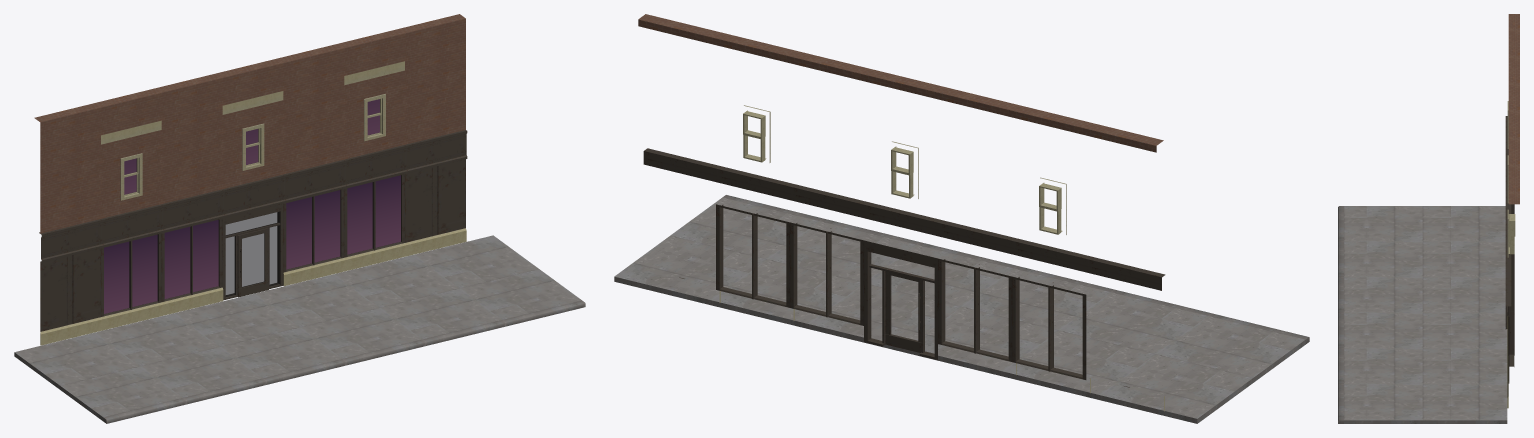
File: storefront.glb
3 renders of one model, left to right at view 1: azimuth 30°, elevation 25°; view 2: azimuth 150°, elevation 25°; view 3: azimuth 270°, elevation 25°, orthographic. The views are drawn at different scales.
Visible parts, largest first — view 1: facade, pavement, door; view 2: pavement, facade, door; view 3: pavement, facade.
Part boxes in pixels (box(x1,y1,x2,y2)): facade: box(34, 14, 467, 345); pavement: box(14, 235, 585, 423); door: box(237, 228, 268, 297); pavement: box(614, 195, 1309, 423); facade: box(638, 14, 1165, 411); door: box(885, 271, 921, 352); pavement: box(1338, 206, 1507, 423); facade: box(1505, 14, 1519, 408).
Bounding box in the file's own units: 18 × 8.15 × 6.46.
5 materials, 3 textured.
